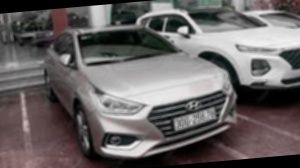Bien-so: (173, 108, 217, 130)
